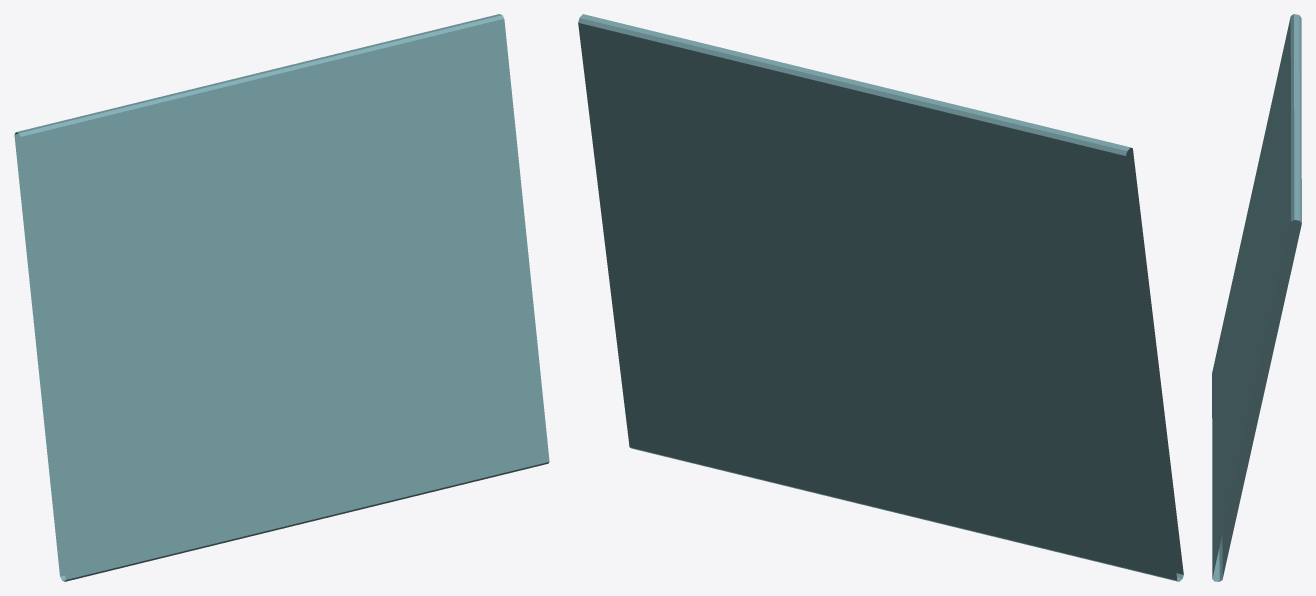
File: table_drawing_panel.fbx
3 views of the same model, side by side, from view 1: azimuth 30°, elevation 25°; view 2: azimuth 150°, elevation 25°; view 3: azimuth 270°, elevation 25° (orthographic). The views are drawn at different scales.
Visible parts, largest first — view 1: table_drawing_panel; view 2: table_drawing_panel; view 3: table_drawing_panel.
Part boxes in pixels (<box>): table_drawing_panel: <box>14,14,549,581</box>; table_drawing_panel: <box>578,14,1183,581</box>; table_drawing_panel: <box>1212,14,1301,581</box>.
Bounding box in the file's own units: 109 × 89.36 × 20.09.
